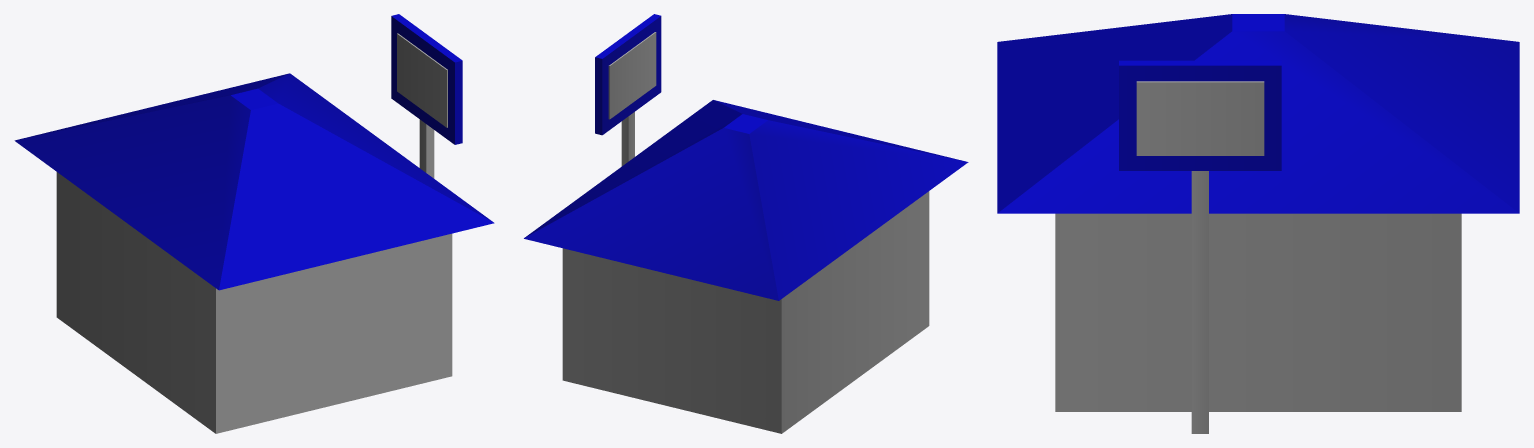
The model's file is fast-food-alternate-low.glb.
3 views of the same model, side by side, from view 1: azimuth 30°, elevation 25°; view 2: azimuth 150°, elevation 25°; view 3: azimuth 270°, elevation 25° (orthographic). The views are drawn at different scales.
Visible parts, largest first — view 1: mesh0; view 2: mesh0; view 3: mesh0.
Part boxes in pixels (x1=…): mesh0: x1=14, y1=14, x2=494, y2=433; mesh0: x1=524, y1=14, x2=968, y2=433; mesh0: x1=997, y1=14, x2=1519, y2=433.
Size of the model in its own units: 0.743 by 0.7 by 0.9.
